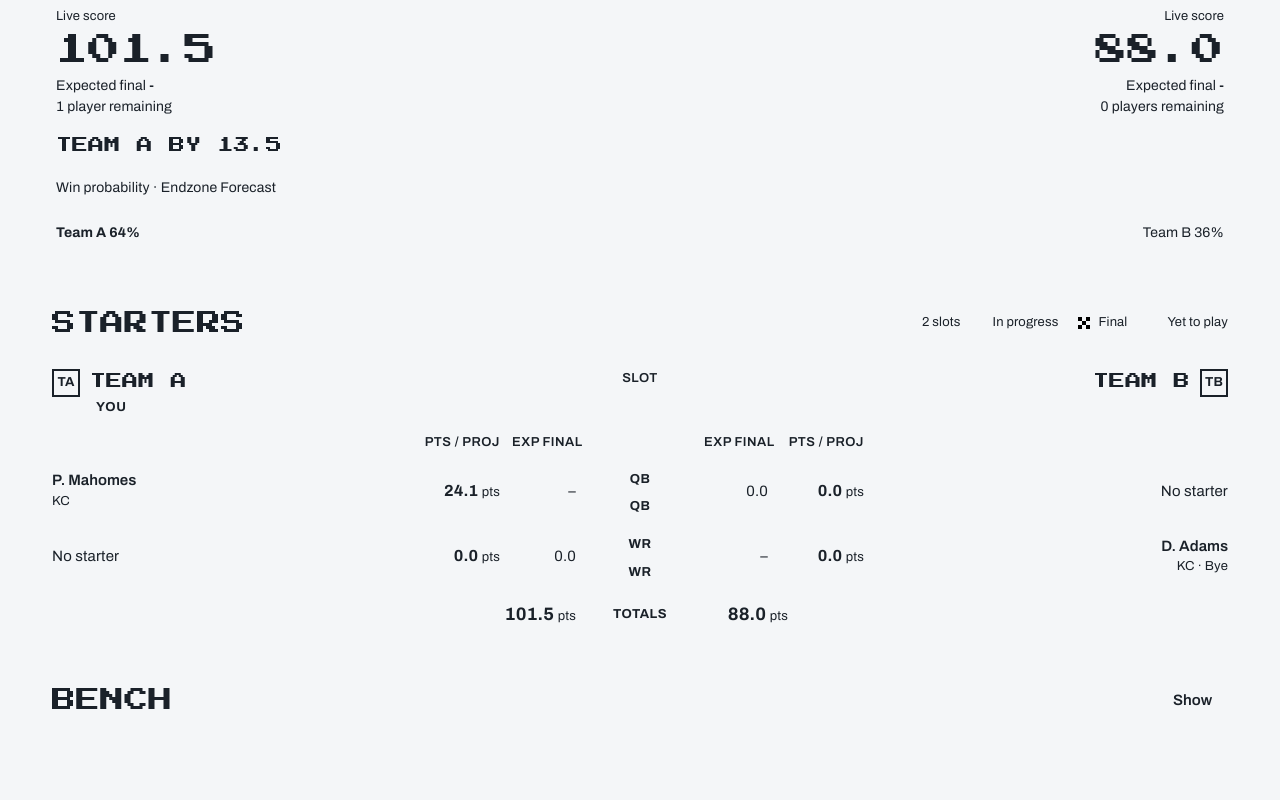
Scenario: expanding a starter row shows his stat line and pace, an Unavailable one his reason without a bar, and expanding again collapses
(page scrolled)
Click the button named "Stats for P. Mahomes" next to "24.1": (314, 491) [52,464,576,518]
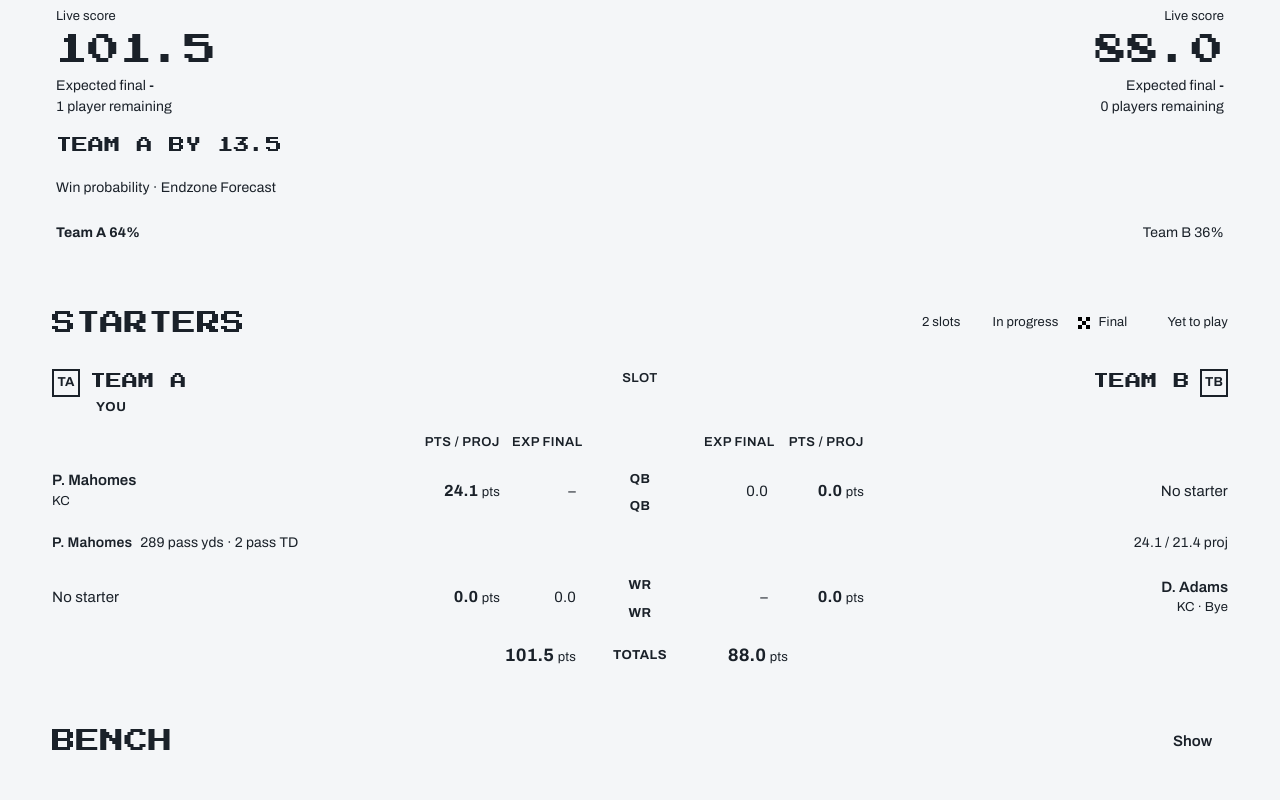
Now the element with test id "slot-expanded" shows "289 pass yds · 2 pass TD", box [140,535,299,550]
Now the element with test id "slot-expanded" shows "24.1 / 21.4 proj", box [1134,535,1228,550]
Note: The other starter's control opens his row and closes the first.
Click the button named "Stats for D. Adams" in the row of "KC · Bye": (966, 597) [704,571,1228,624]
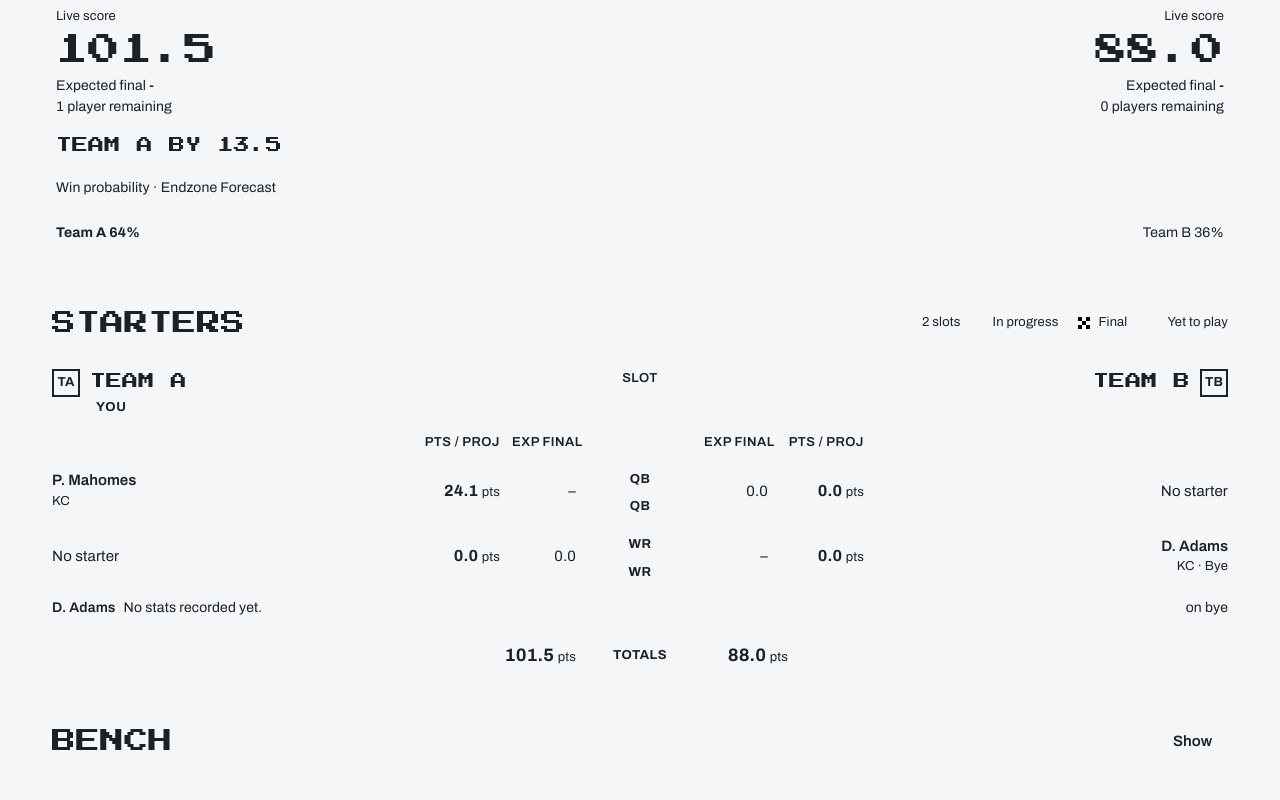
Expected: the element with test id "slot-expanded" does not show "proj", [52,600,1228,615]
Now the number of elements with test id "slot-expanded" is 1, box [52,600,1228,615]
Now the text with test id "unavailable-reason" reads "on bye", box [1186,600,1228,615]
Click the button named "Stats for D. Adams" in the row of "KC · Bye": (966, 556) [704,530,1228,583]
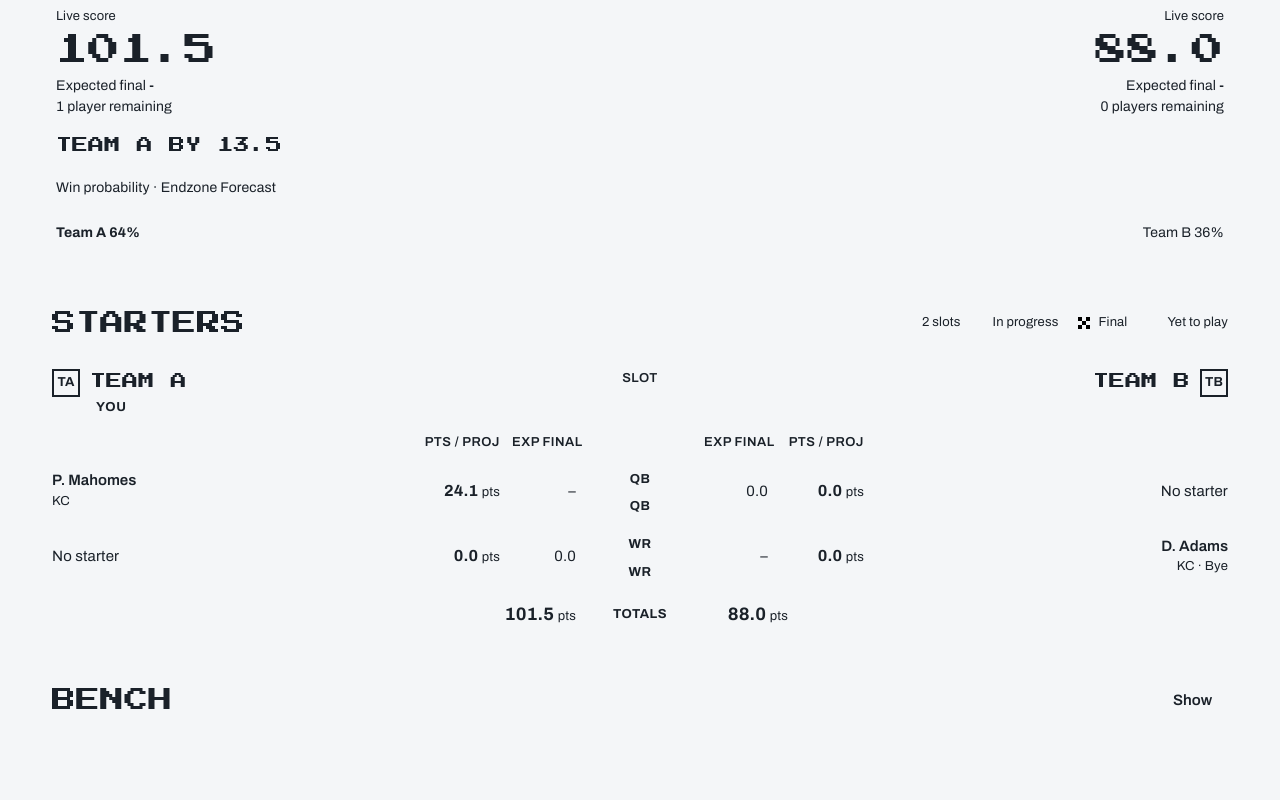
Now the element with test id "slot-expanded" is gone
